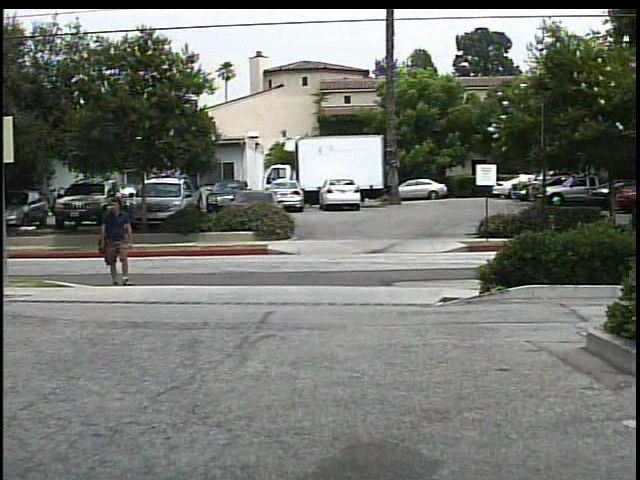person: (97, 195, 139, 286)
